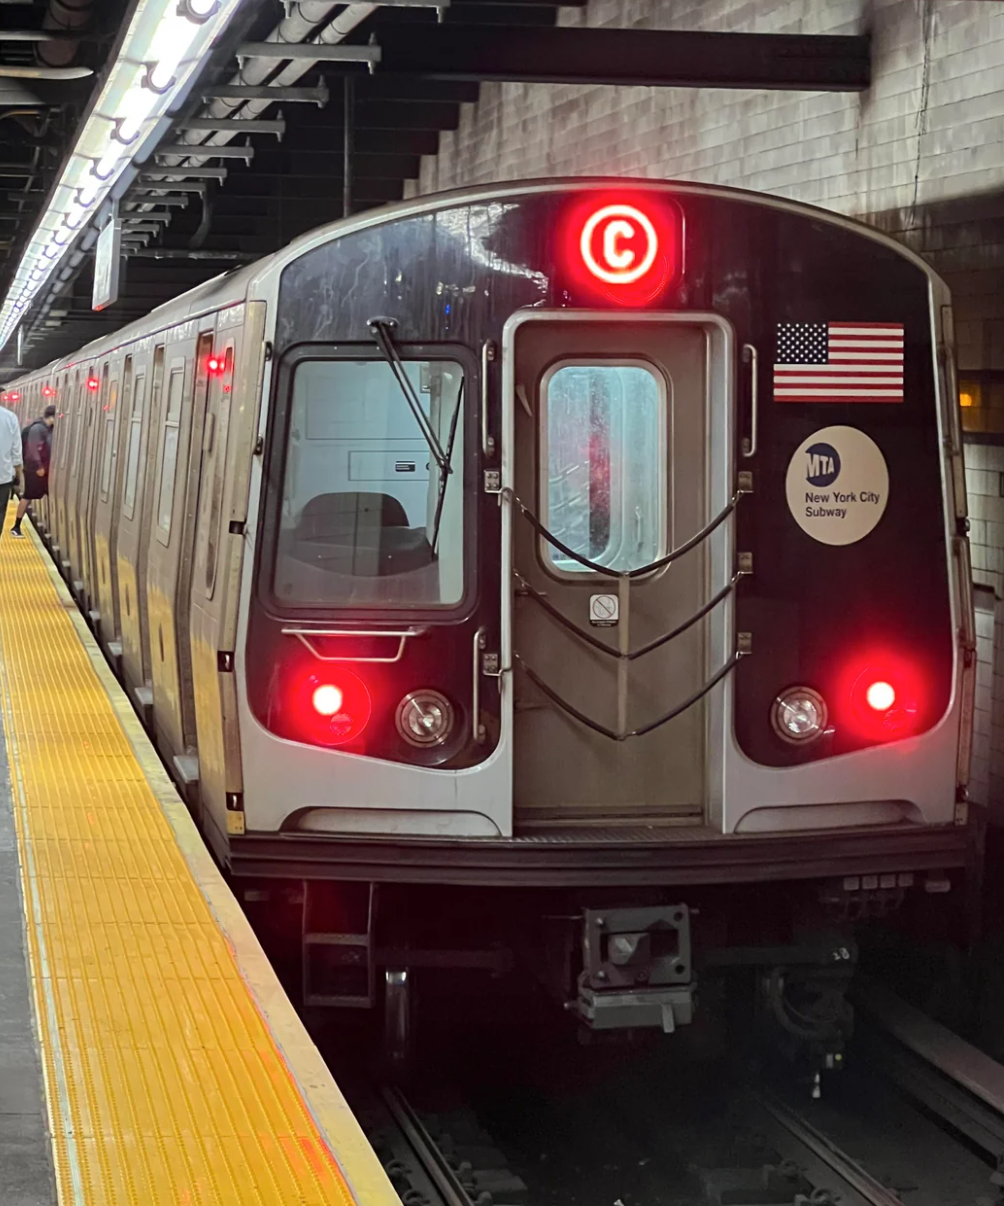train: (188, 179, 979, 896)
